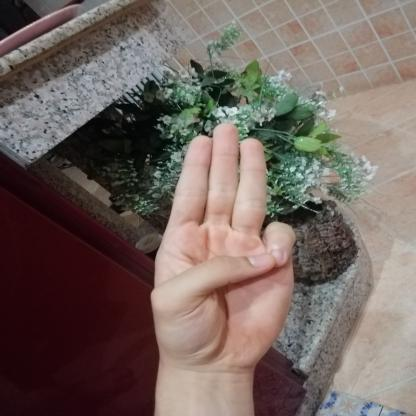THA: (132, 112, 310, 379)
